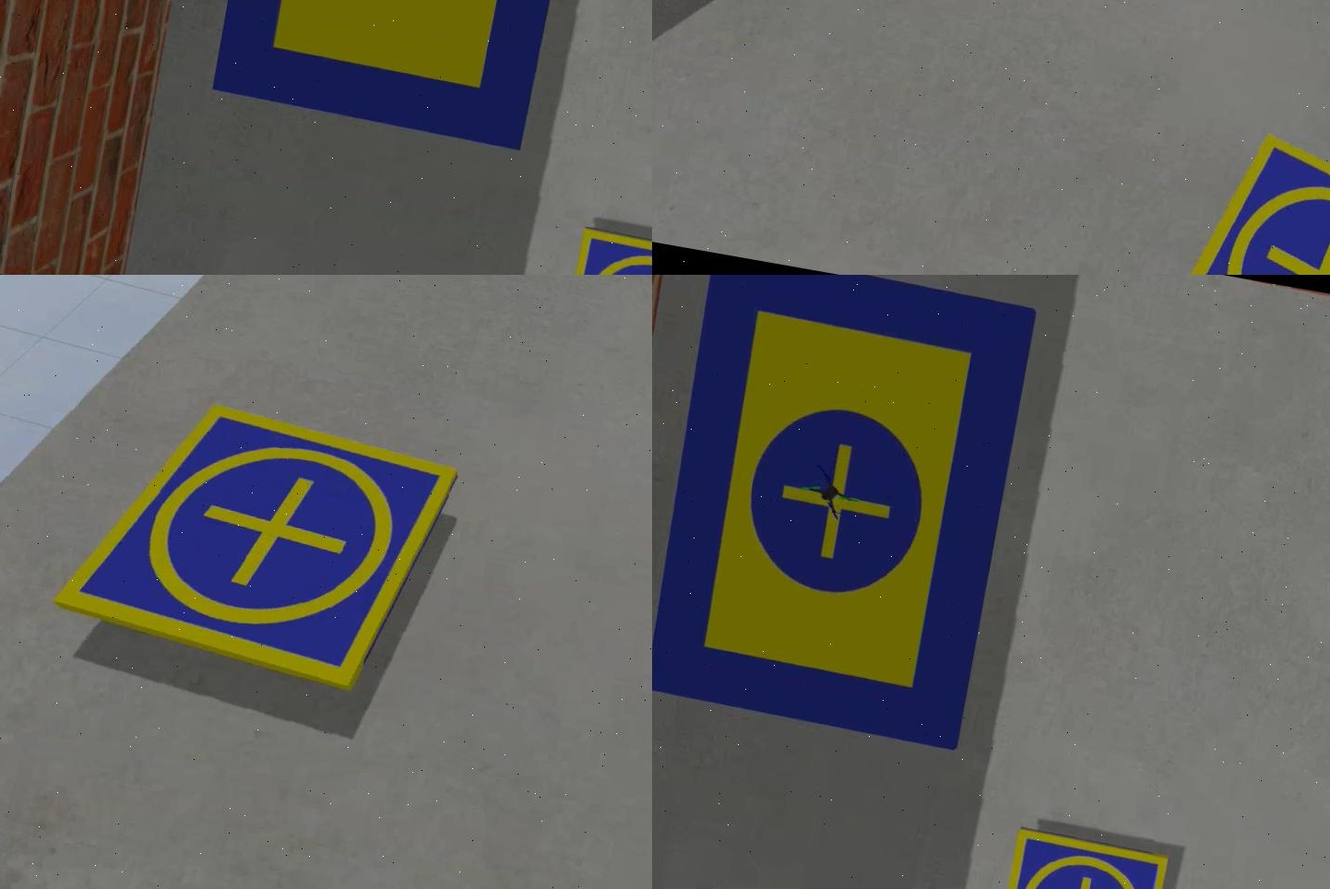large_base: (651, 275, 1039, 750), (211, 1, 610, 152)
small_base: (42, 385, 458, 713), (1152, 119, 1328, 275), (991, 824, 1172, 889)
